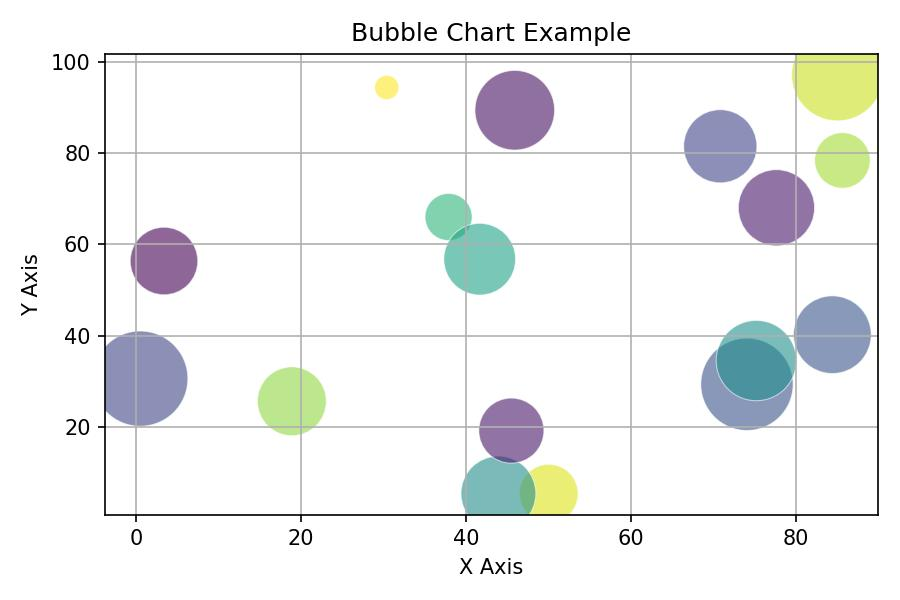axis: (91, 500, 879, 543), (79, 44, 116, 527)
circle: (105, 330, 187, 426), (470, 69, 555, 148), (718, 319, 799, 401), (738, 168, 815, 245), (796, 296, 869, 373), (794, 55, 879, 117), (685, 108, 757, 181), (442, 225, 519, 293), (473, 397, 545, 462), (130, 226, 197, 293), (260, 365, 325, 433), (461, 460, 535, 513), (811, 132, 869, 185), (425, 193, 473, 244), (372, 73, 400, 98)
